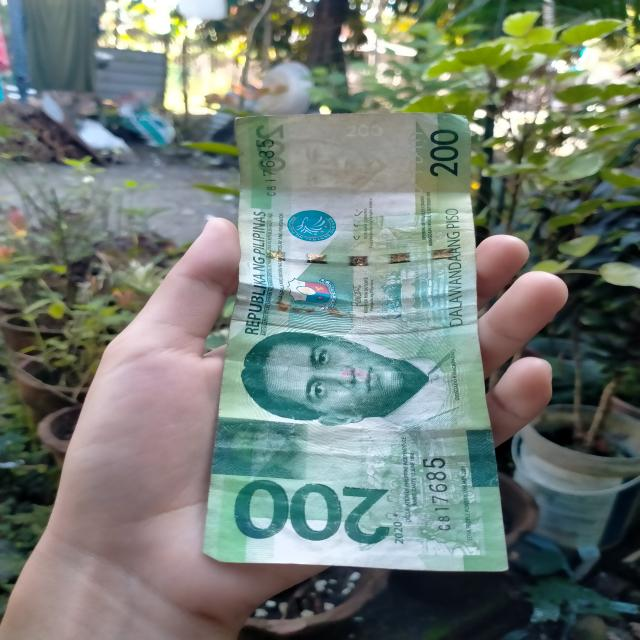concealed_value: (212, 416, 318, 477)
security_thread: (242, 244, 474, 265)
see_through_mark: (396, 128, 431, 202)
serial_number: (414, 452, 463, 544), (251, 132, 287, 201)
value: (232, 473, 392, 552)
value_watermark: (339, 122, 388, 144)
watermark: (264, 134, 400, 205)
